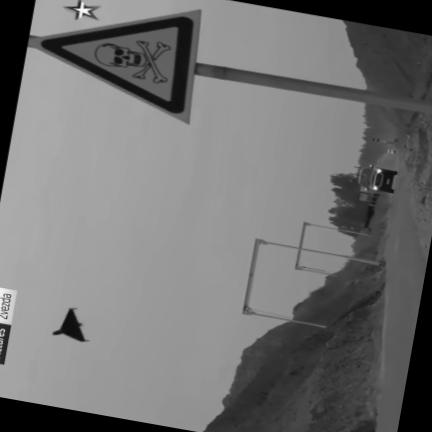Shahed: (53, 307, 89, 341)
